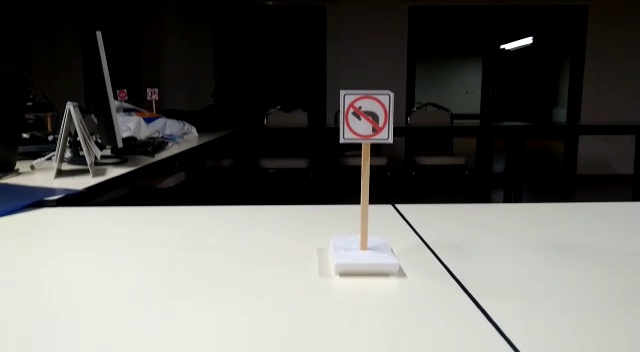sola_donulmez: (339, 93, 393, 144)
